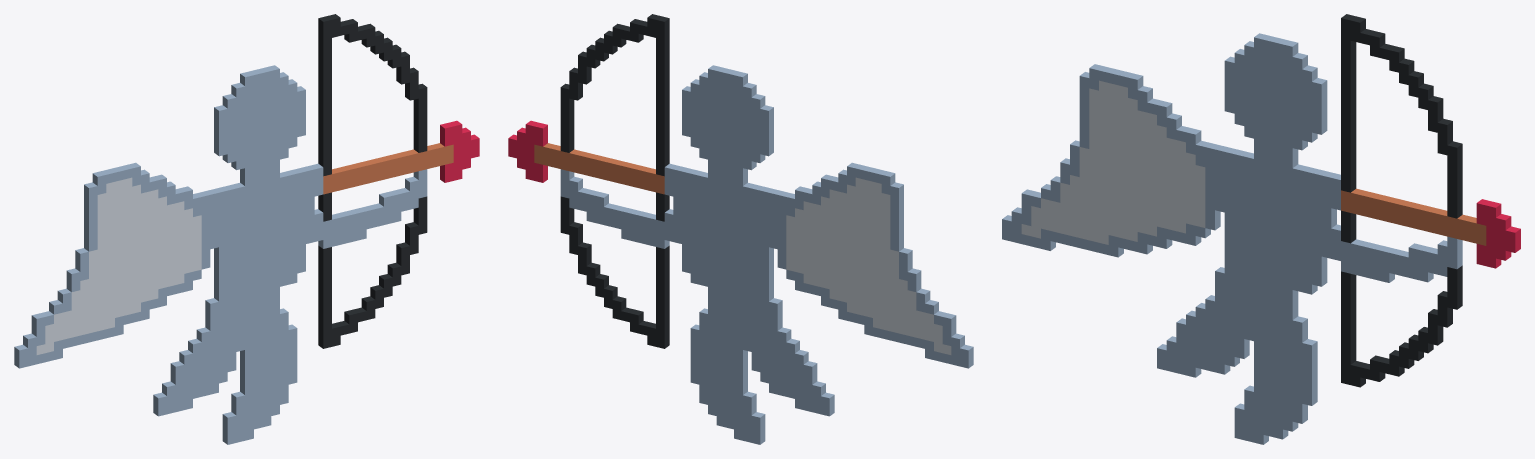
File: Cupid.fbx
3 views of the same model, side by side, from view 1: azimuth 30°, elevation 25°; view 2: azimuth 150°, elevation 25°; view 3: azimuth 330°, elevation 25° (orthographic). The views are drawn at different scales.
Visible parts, largest first — view 1: generated; view 2: generated; view 3: generated.
Part boxes in pixels (x1,y1,x2,y2): generated: (14, 14, 479, 444); generated: (508, 14, 973, 444); generated: (1002, 14, 1520, 444).
Size of the model in its own units: 530 by 440 by 10.
